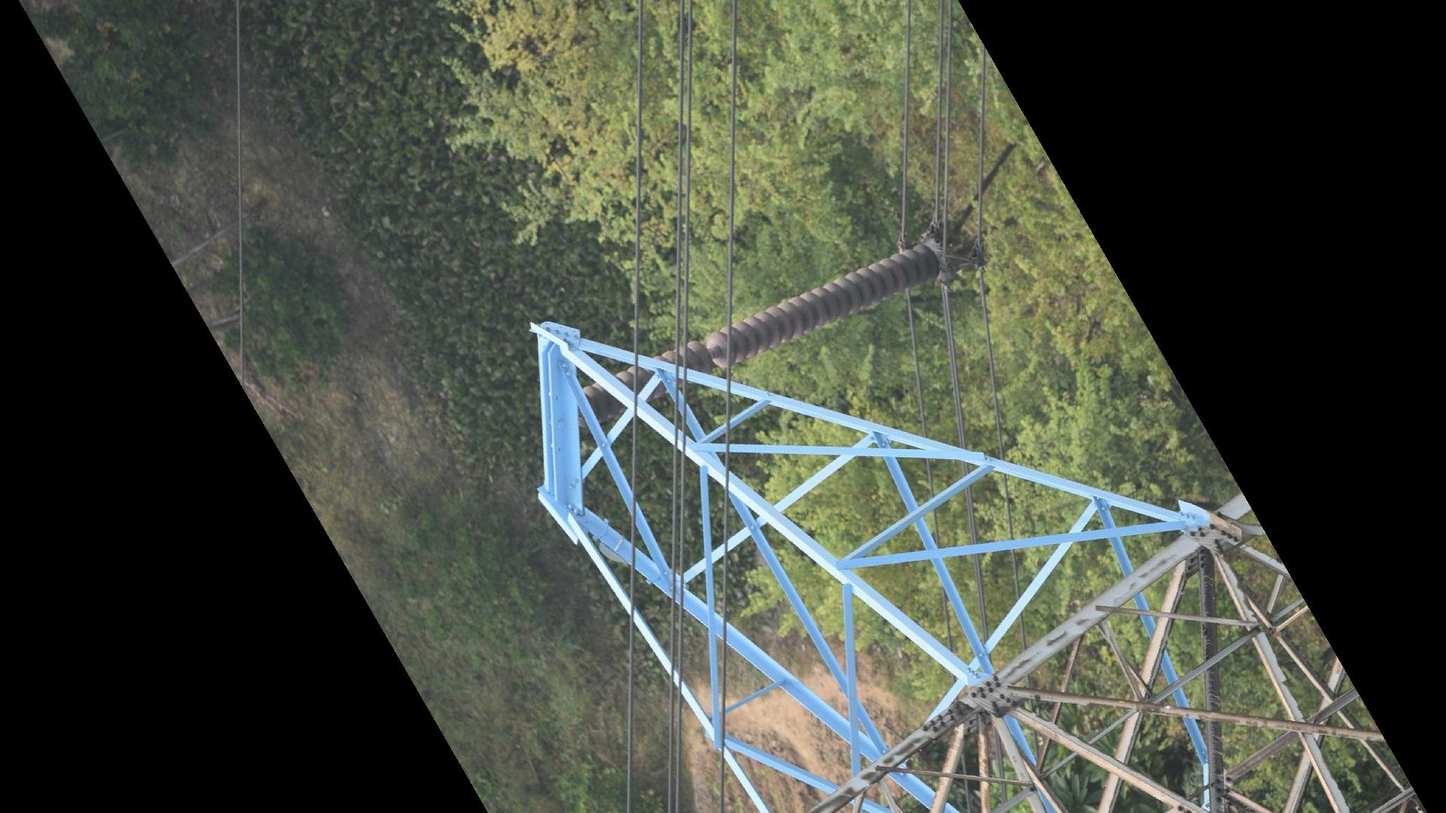insulator: (585, 239, 943, 421)
insulator_stringdrop: (685, 327, 739, 379)
